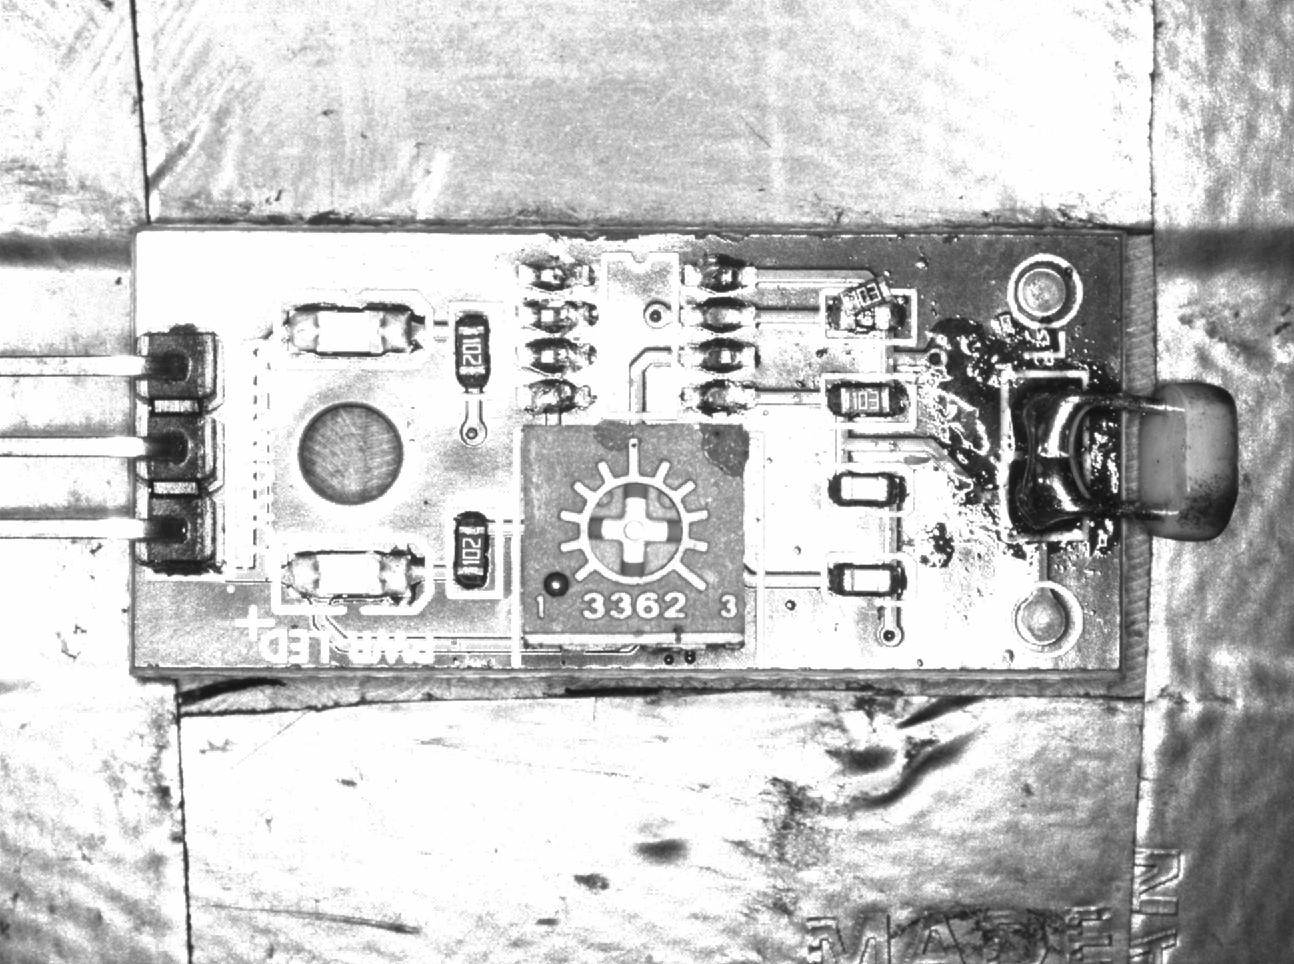bridge: (1000, 369, 1093, 540)
lifted: (821, 279, 924, 344)
ok: (444, 300, 504, 412), (814, 374, 919, 431), (446, 505, 500, 602), (821, 465, 919, 516), (825, 548, 913, 599)
